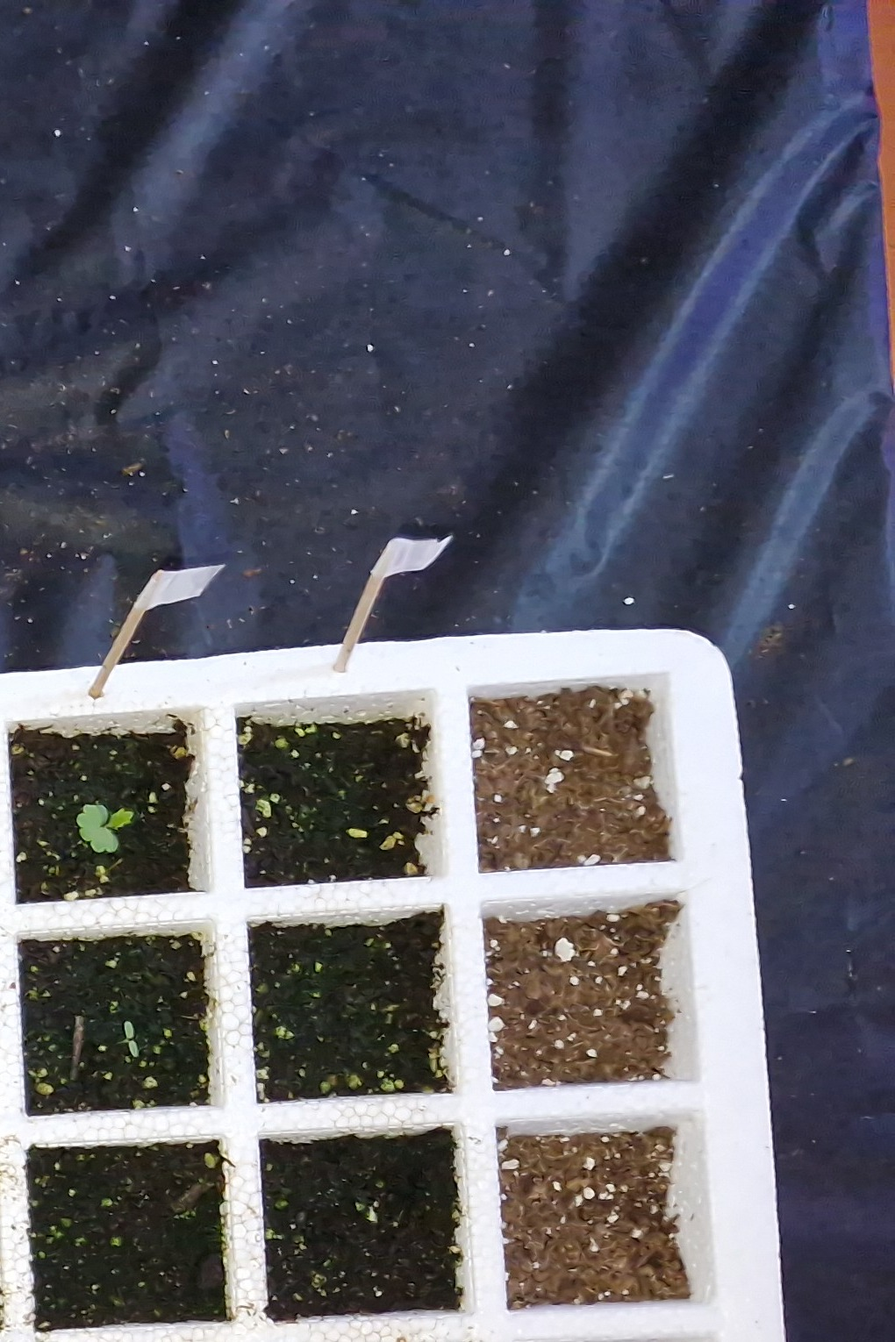Folha: (77, 805, 118, 853), (108, 808, 134, 830), (124, 1021, 134, 1039), (129, 1040, 138, 1057)
Germinacao: (77, 804, 135, 853), (118, 1021, 138, 1056)
